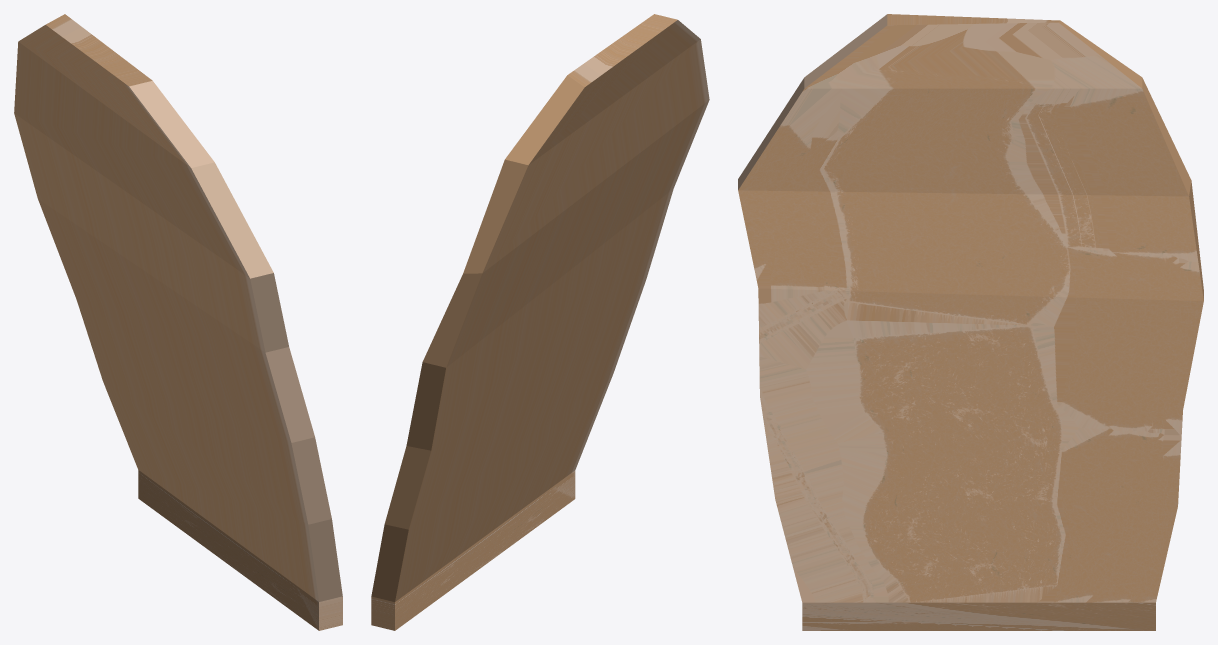
The model's file is GasparCardboard.fbx.
3 renders of one model, left to right at view 1: azimuth 30°, elevation 25°; view 2: azimuth 150°, elevation 25°; view 3: azimuth 270°, elevation 25°, orthographic. The views are drawn at different scales.
Visible parts, largest first — view 1: ParteRotacional; view 2: ParteRotacional; view 3: ParteRotacional.
Boxes of the visible parts, box(x1,y1,x2,y2) form: ParteRotacional: box(14, 14, 342, 630); ParteRotacional: box(371, 14, 709, 630); ParteRotacional: box(738, 14, 1203, 630).
Bounding box in the file's own units: 109 × 336 × 263.
